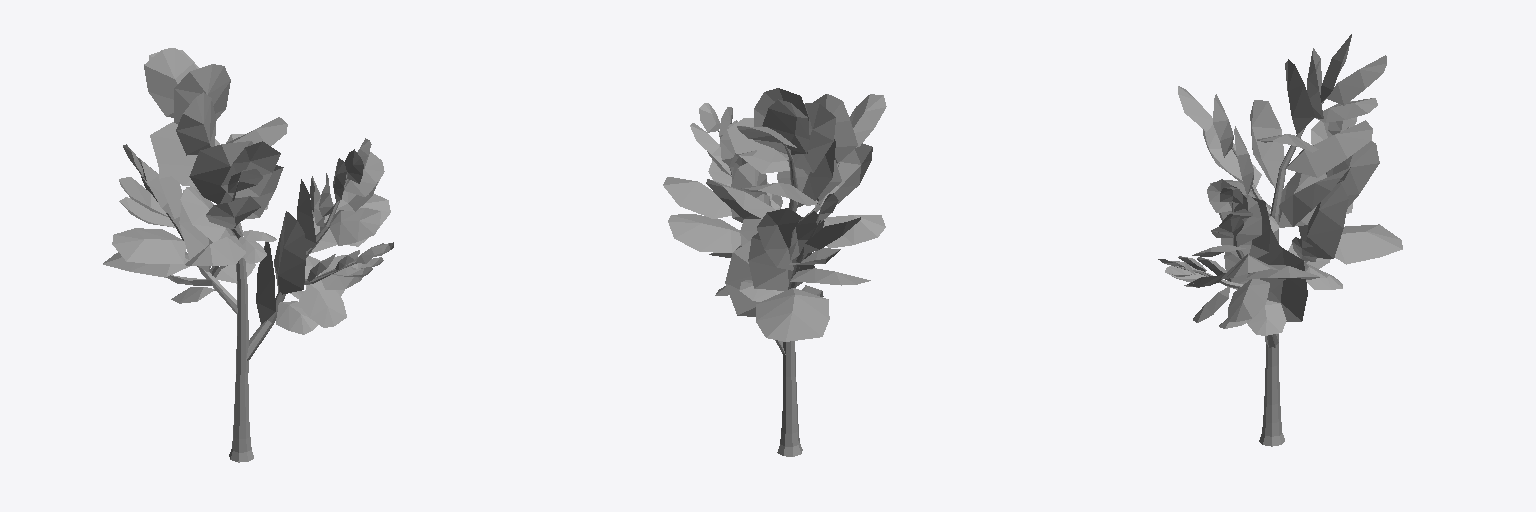
File: tree3.obj
3 views of the same model, side by side, from view 1: azimuth 30°, elevation 25°; view 2: azimuth 150°, elevation 25°; view 3: azimuth 270°, elevation 25° (orthographic).
Visible parts, largest first — view 1: Circle, Plane.029, Plane.001, Plane.050_Plane.150, Plane.051_Plane.151, Plane.045, Plane.046, Plane.038, Plane.052_Plane.152, Plane.005, Plane.019, Plane.027 (+19 smaller); view 2: Plane.026, Plane.007, Circle, Plane.024, Plane.046, Plane.006, Plane.050_Plane.150, Plane.023, Plane.004, Plane.045, Plane.040, Plane.035 (+11 smaller); view 3: Circle, Plane.038, Plane.023, Plane.026, Plane.045, Plane.004, Plane.024, Plane.037, Plane.003, Plane.048, Plane.046, Plane.002 (+14 smaller).
Part boxes in pixels (bbox=[...]): Circle: bbox=[229, 223, 253, 462]; Plane.029: bbox=[112, 228, 185, 263]; Plane.001: bbox=[274, 211, 305, 294]; Plane.050_Plane.150: bbox=[144, 48, 196, 117]; Plane.051_Plane.151: bbox=[174, 64, 230, 123]; Plane.045: bbox=[189, 141, 252, 203]; Plane.046: bbox=[176, 92, 216, 155]; Plane.038: bbox=[150, 122, 219, 186]; Plane.052_Plane.152: bbox=[221, 141, 280, 197]; Plane.005: bbox=[297, 282, 346, 327]; Plane.019: bbox=[330, 208, 380, 245]; Plane.027: bbox=[180, 187, 233, 242]; Plane.026: bbox=[756, 288, 829, 341]; Plane.007: bbox=[668, 214, 740, 252]; Circle: bbox=[777, 143, 802, 456]; Plane.024: bbox=[757, 208, 806, 270]; Plane.046: bbox=[775, 103, 835, 172]; Plane.006: bbox=[663, 177, 731, 218]; Plane.050_Plane.150: bbox=[762, 99, 809, 153]; Plane.023: bbox=[748, 233, 814, 290]; Plane.004: bbox=[725, 241, 759, 316]; Plane.045: bbox=[777, 139, 835, 207]; Plane.040: bbox=[814, 143, 872, 209]; Plane.035: bbox=[823, 215, 885, 247]; Circle: bbox=[1259, 99, 1325, 446]; Plane.038: bbox=[1287, 120, 1372, 177]; Plane.023: bbox=[1298, 172, 1348, 258]; Plane.026: bbox=[1335, 224, 1402, 264]; Plane.045: bbox=[1250, 100, 1284, 187]; Plane.004: bbox=[1267, 247, 1307, 321]; Plane.024: bbox=[1326, 141, 1379, 208]; Plane.037: bbox=[1279, 167, 1350, 226]; Plane.003: bbox=[1228, 279, 1269, 321]; Plane.048: bbox=[1326, 55, 1386, 105]; Plane.046: bbox=[1285, 59, 1314, 133]; Plane.002: bbox=[1246, 300, 1286, 335].
Size of the model in its own units: 5 by 7.96 by 4.58.